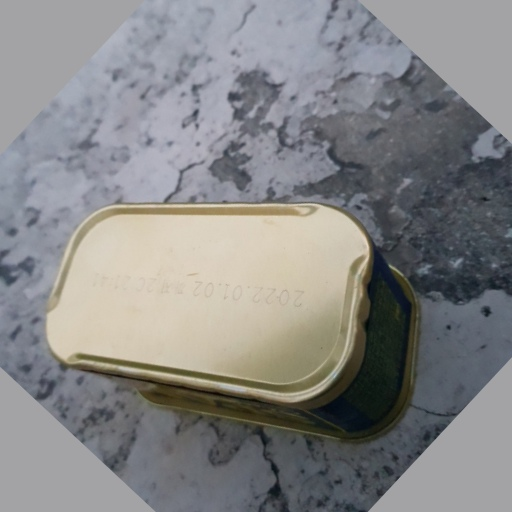Metal_2: (45, 198, 424, 444)
